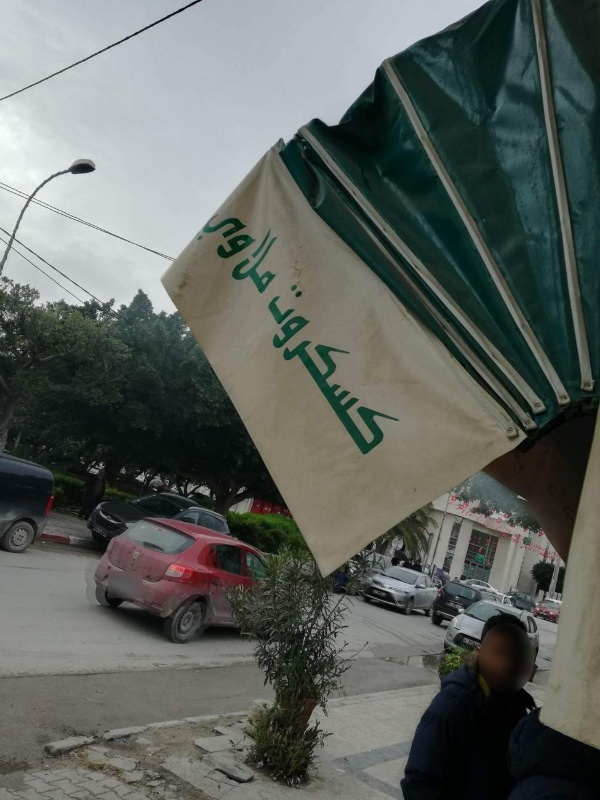text: (305, 279, 320, 459), (321, 279, 336, 459), (337, 279, 352, 459), (353, 279, 368, 459), (369, 279, 384, 459), (385, 279, 400, 459), (293, 279, 304, 459), (241, 198, 256, 304), (257, 198, 272, 304), (273, 198, 288, 304), (289, 198, 303, 304), (401, 279, 409, 459), (228, 198, 240, 304)
